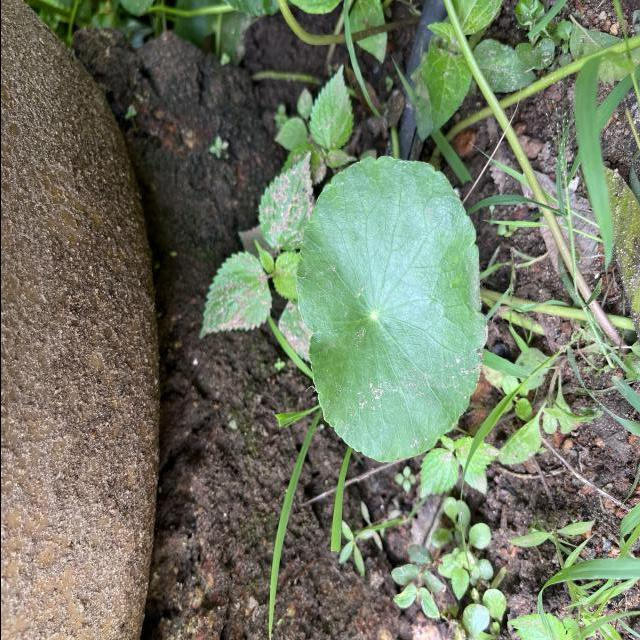Bacopa monnieri: (292, 152, 490, 468)
